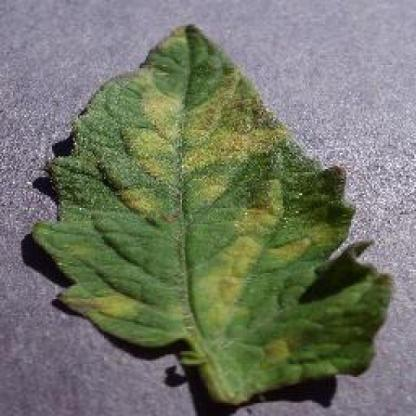Tomato_Leaf_Mold: (39, 25, 393, 401)
